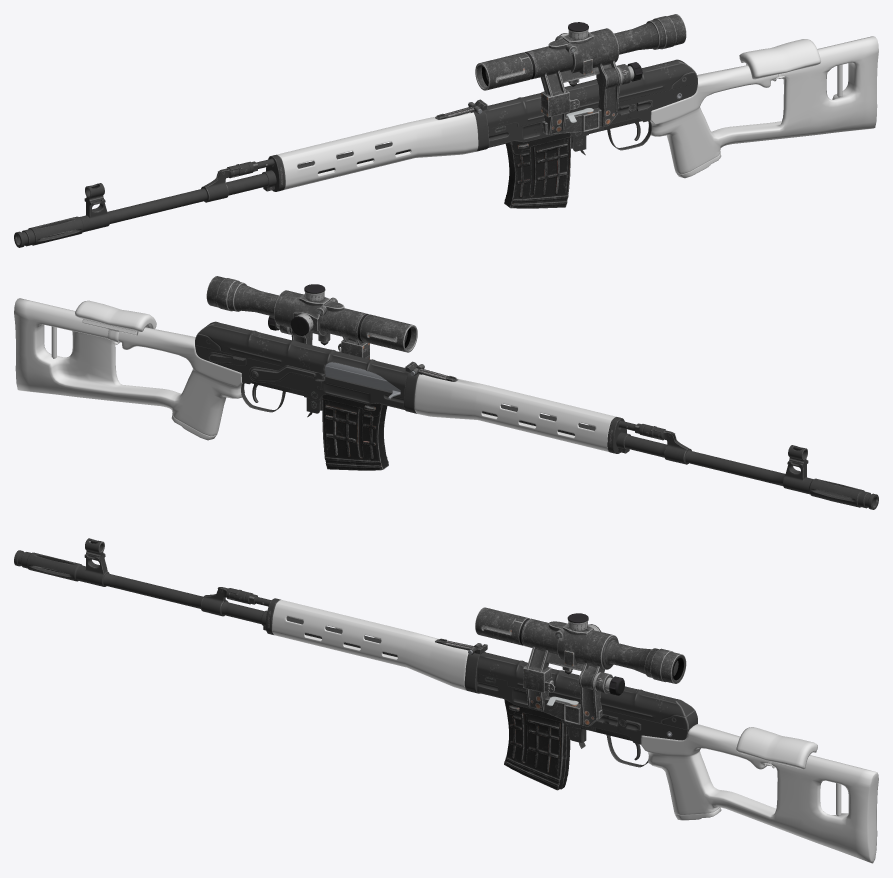
File: svd.fbx
The picture shows the model from 3 angles, top to bottom: view 1: azimuth 30°, elevation 25°; view 2: azimuth 150°, elevation 25°; view 3: azimuth 330°, elevation 25°; orthographic projection.
Parts seen in each view (by area): view 1: LP_wood_parts.000, LP_scope.001, LP_metal_parts.000, LP_barrel.001, LP_magazine_gg.001; view 2: LP_wood_parts.000, LP_metal_parts.000, LP_scope.001, LP_barrel.001, LP_magazine_gg.001; view 3: LP_wood_parts.000, LP_scope.001, LP_metal_parts.000, LP_barrel.001, LP_magazine_gg.001.
Part boxes in pixels (box(x1,y1,x2,y2)): LP_wood_parts.000: box(277, 36, 878, 189); LP_scope.001: box(475, 14, 686, 134); LP_metal_parts.000: box(435, 59, 697, 155); LP_barrel.001: box(14, 142, 410, 247); LP_magazine_gg.001: box(504, 133, 571, 208); LP_wood_parts.000: box(14, 298, 616, 451); LP_metal_parts.000: box(195, 321, 457, 417); LP_scope.001: box(206, 276, 417, 359); LP_barrel.001: box(482, 404, 878, 509); LP_magazine_gg.001: box(322, 394, 388, 470); LP_wood_parts.000: box(272, 599, 878, 863); LP_scope.001: box(475, 607, 686, 726); LP_metal_parts.000: box(435, 638, 697, 767); LP_barrel.001: box(14, 538, 397, 657); LP_magazine_gg.001: box(504, 699, 570, 790).
Bounding box in the file's own units: 122 × 23.92 × 7.11.
